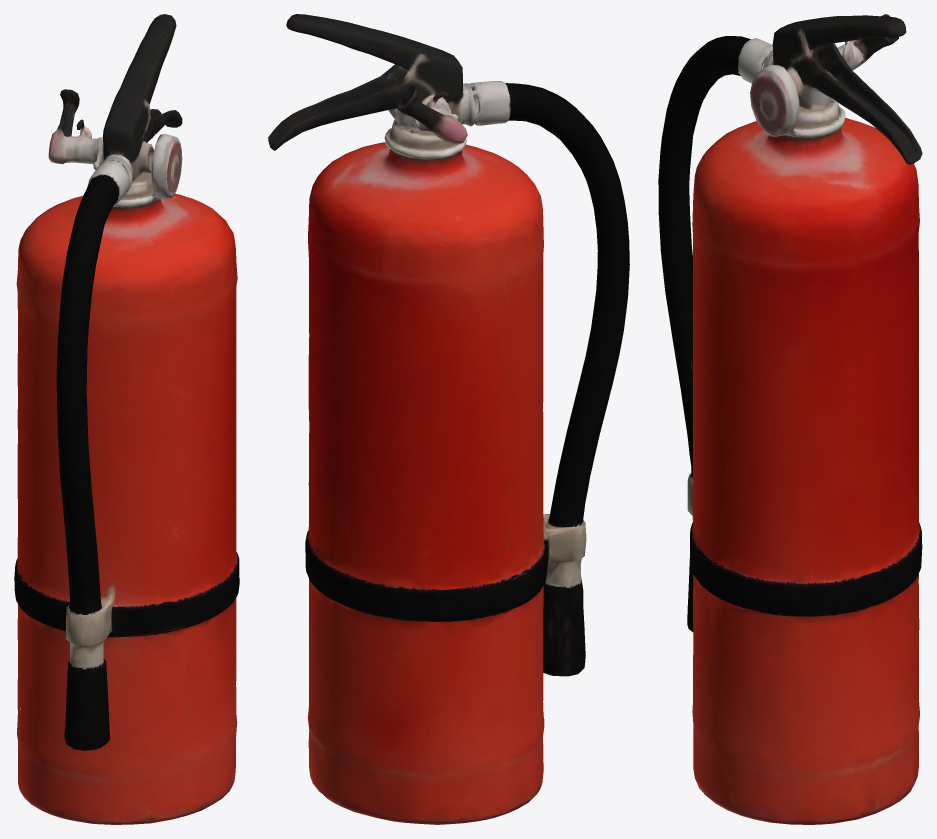
The model's file is extintor.glb.
The picture shows the model from 3 angles, left to right: view 1: azimuth 30°, elevation 25°; view 2: azimuth 150°, elevation 25°; view 3: azimuth 270°, elevation 25°; orthographic projection. The views are drawn at different scales.
Parts seen in each view (by area): view 1: geometry_0; view 2: geometry_0; view 3: geometry_0.
Boxes of the visible parts, x1,y1,x2,y2 form: geometry_0: [14, 14, 239, 824]; geometry_0: [268, 14, 629, 824]; geometry_0: [658, 14, 922, 824].
Size of the model in its own units: 0.2001 by 0.6 by 0.18.
1 material, 1 textured.
